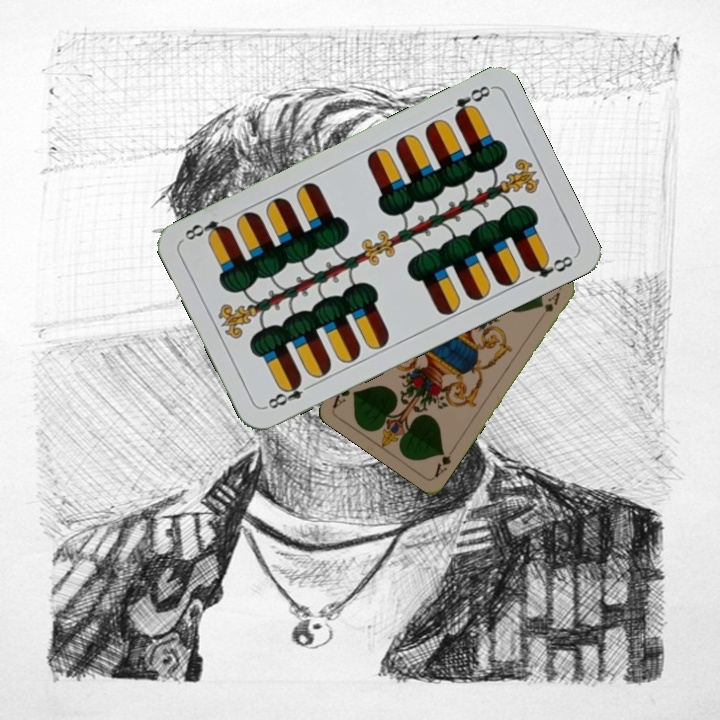E8: (261, 375, 317, 412), (450, 81, 493, 122)
GA: (430, 443, 458, 480)
